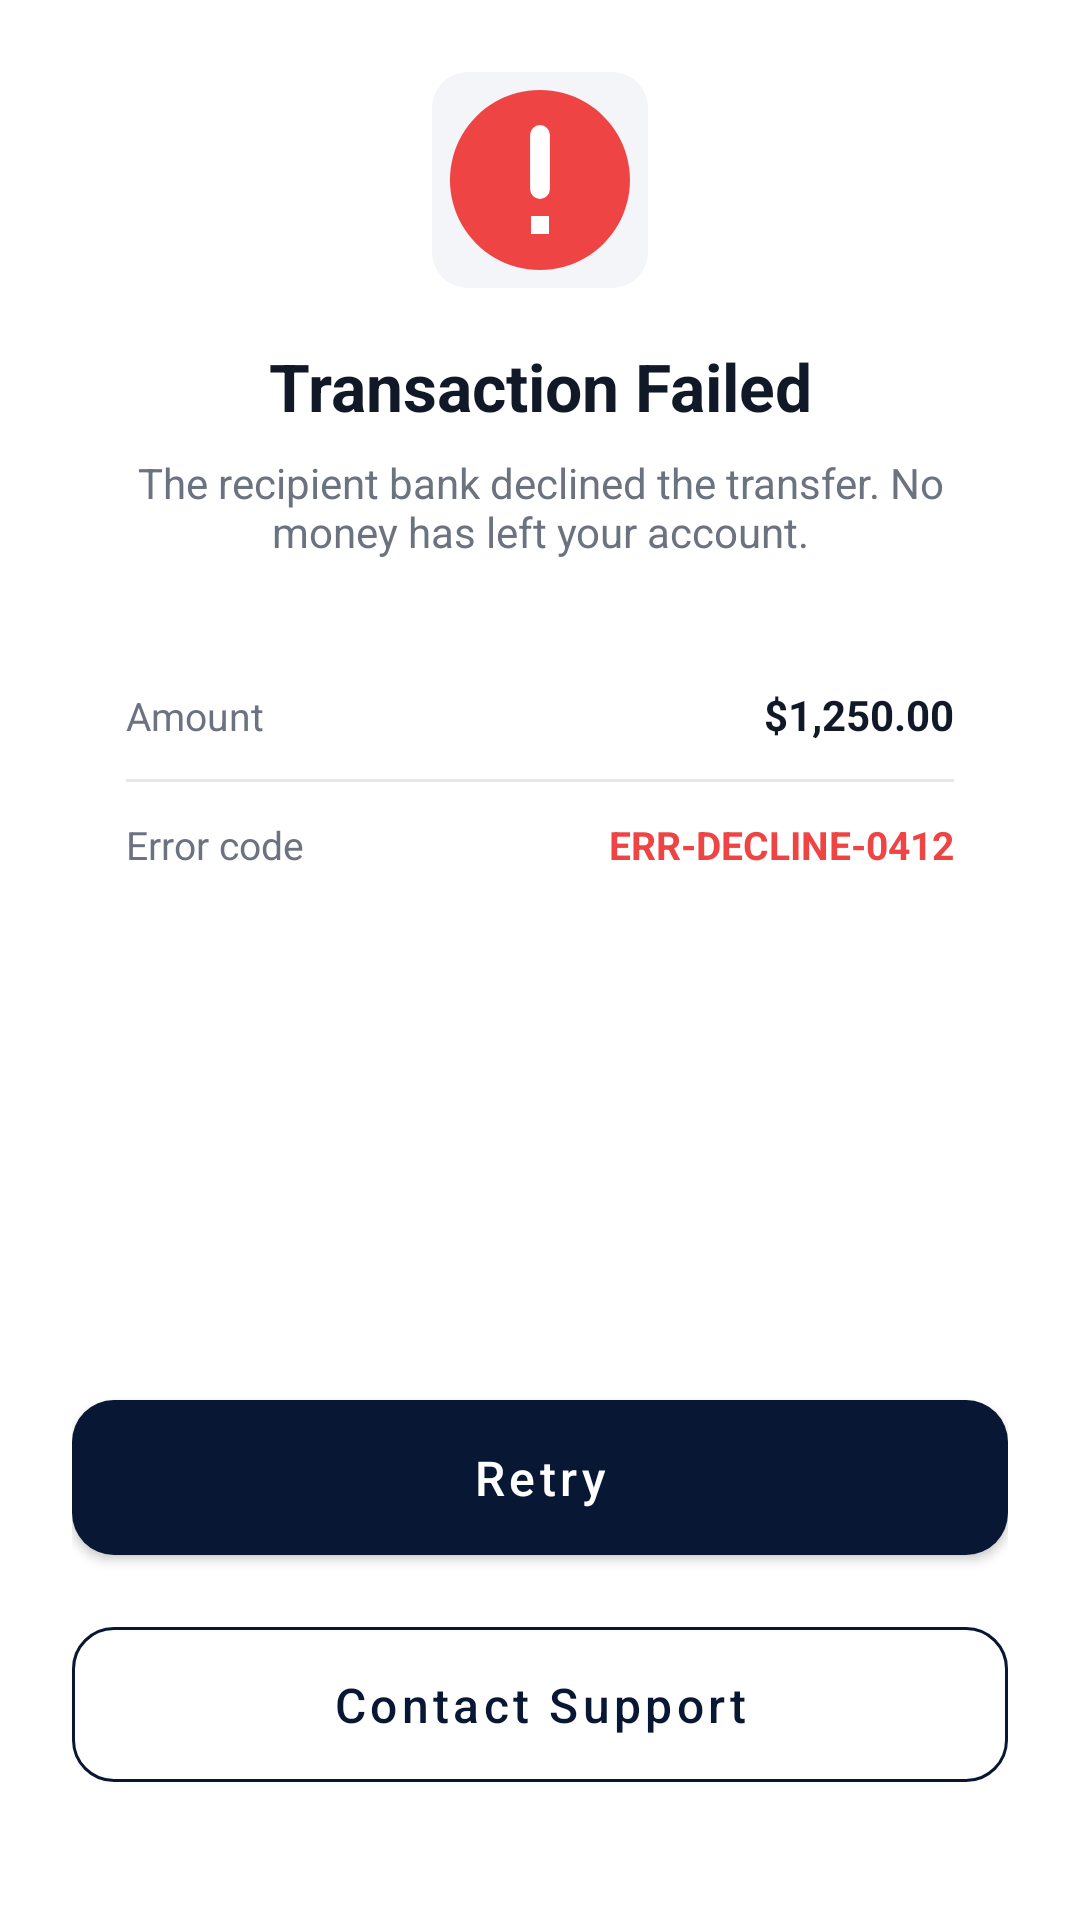

Point at icon controls on the screen. Image size 1080 x 1920, points as (x=x, y=y).
alert: (x=540, y=180)
